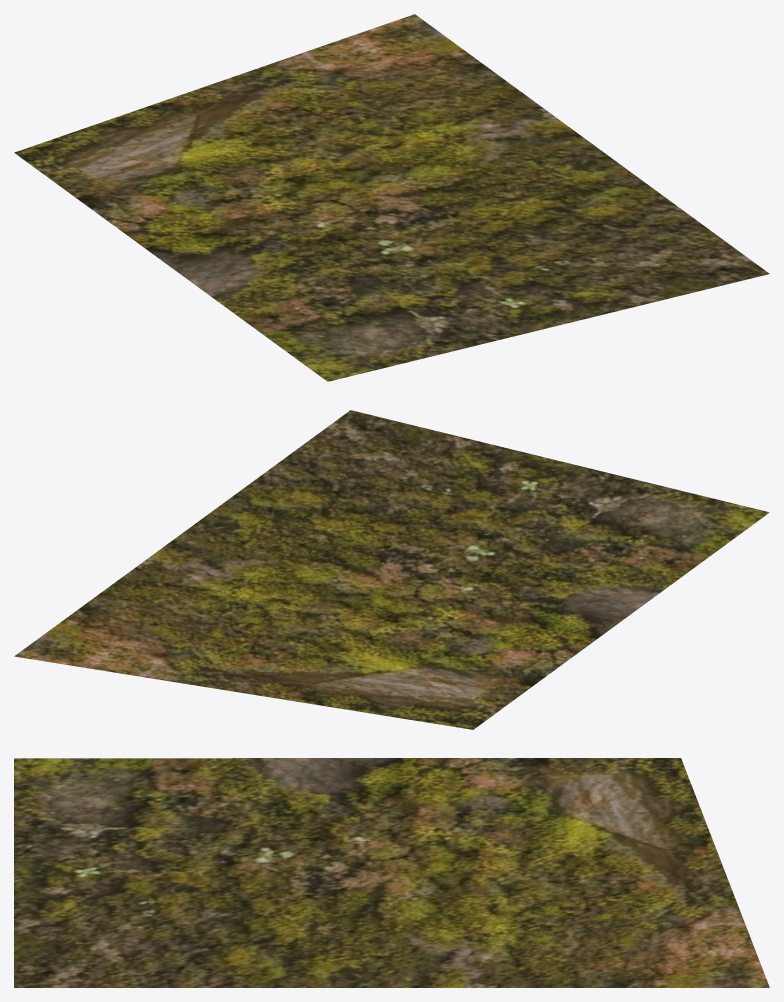
The model's file is moss_float06.dae.
The picture shows the model from 3 angles, top to bottom: view 1: azimuth 30°, elevation 25°; view 2: azimuth 150°, elevation 25°; view 3: azimuth 270°, elevation 25°; orthographic projection. The views are drawn at different scales.
Visible parts, largest first — view 1: 06; view 2: 06; view 3: 06.
Boxes of the visible parts, left/top/right/bottom form: 06: left=14, top=14, right=769, bottom=381; 06: left=14, top=410, right=769, bottom=729; 06: left=14, top=758, right=769, bottom=987.
Bounding box in the file's own units: 0.9688 × 0 × 1.35.
